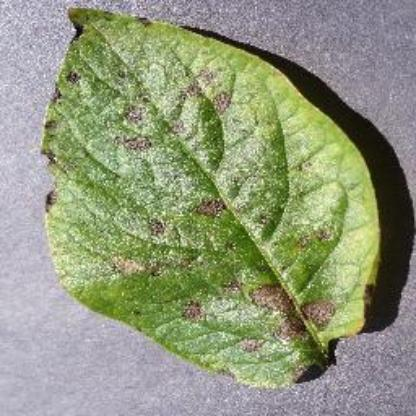Early-Blight: (37, 2, 393, 390)
